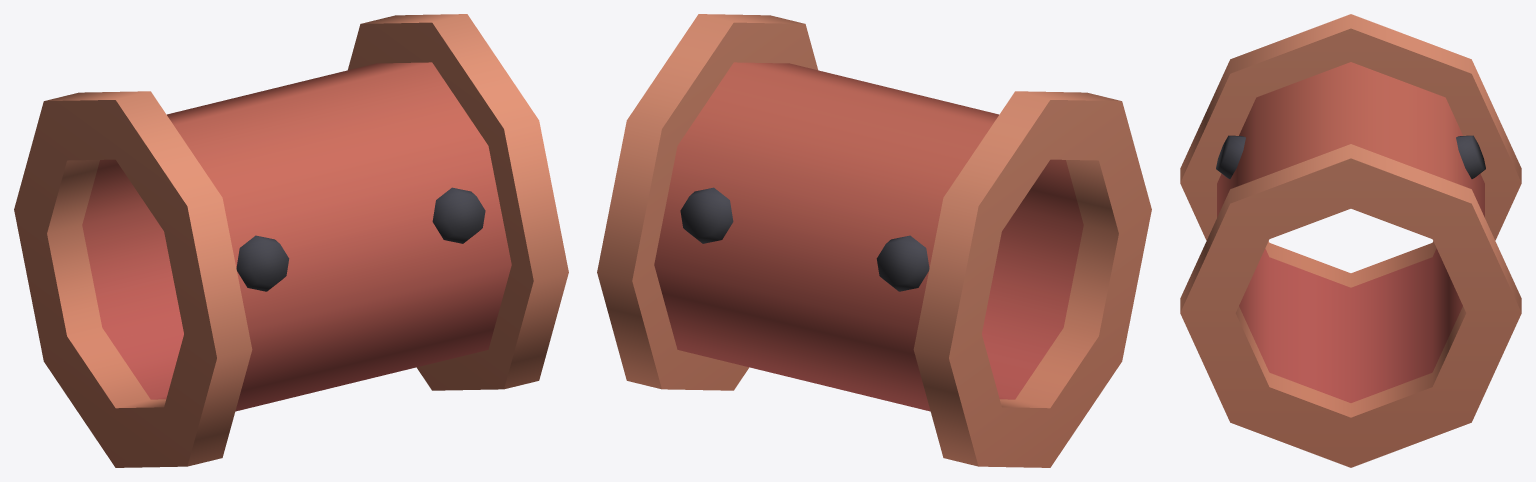
The model's file is pipe-large.obj.
The picture shows the model from 3 angles, left to right: view 1: azimuth 30°, elevation 25°; view 2: azimuth 150°, elevation 25°; view 3: azimuth 270°, elevation 25°; orthographic projection. The views are drawn at different scales.
Parts seen in each view (by area): view 1: pipe-large; view 2: pipe-large; view 3: pipe-large.
Part boxes in pixels (<box>): pipe-large: <box>14,14,568,467</box>; pipe-large: <box>597,14,1151,467</box>; pipe-large: <box>1180,14,1521,467</box>.
Size of the model in its own units: 1 by 1 by 1.
